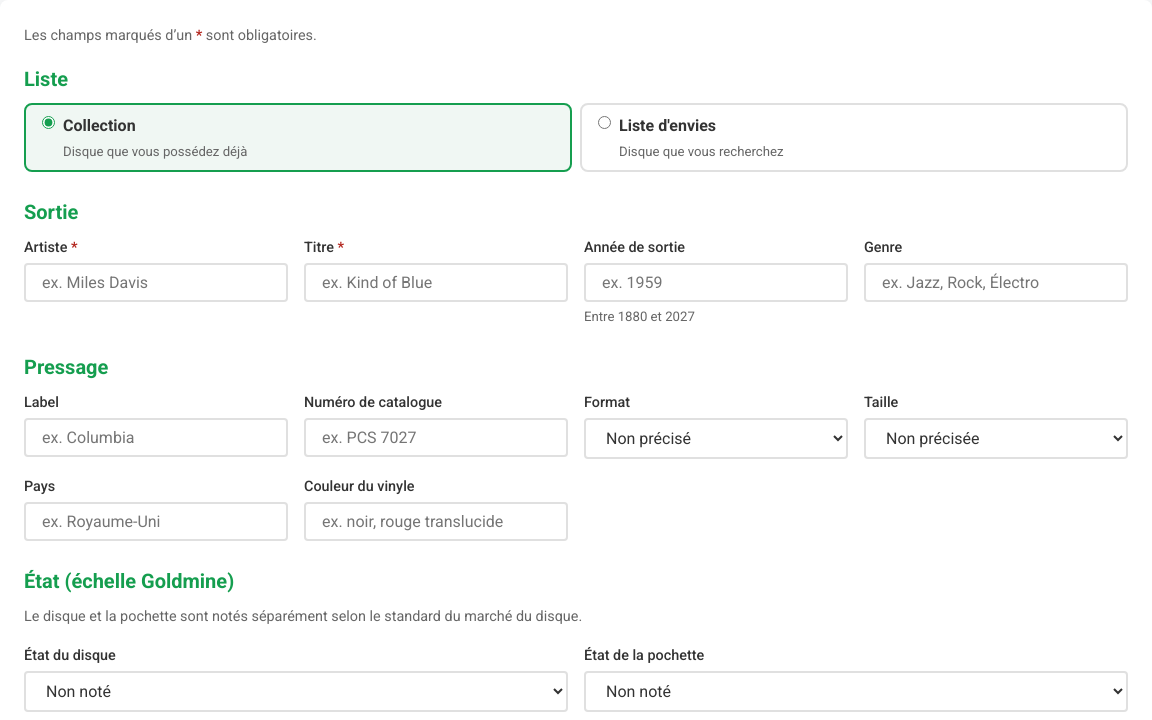
FormulaireVinyle › valide l’année côté client avant l’envoi à l’API
Type "Miles Davis" into the field labelled "Artiste *".
click(156, 282); type("Miles Davis")  # box [24,263,288,302]
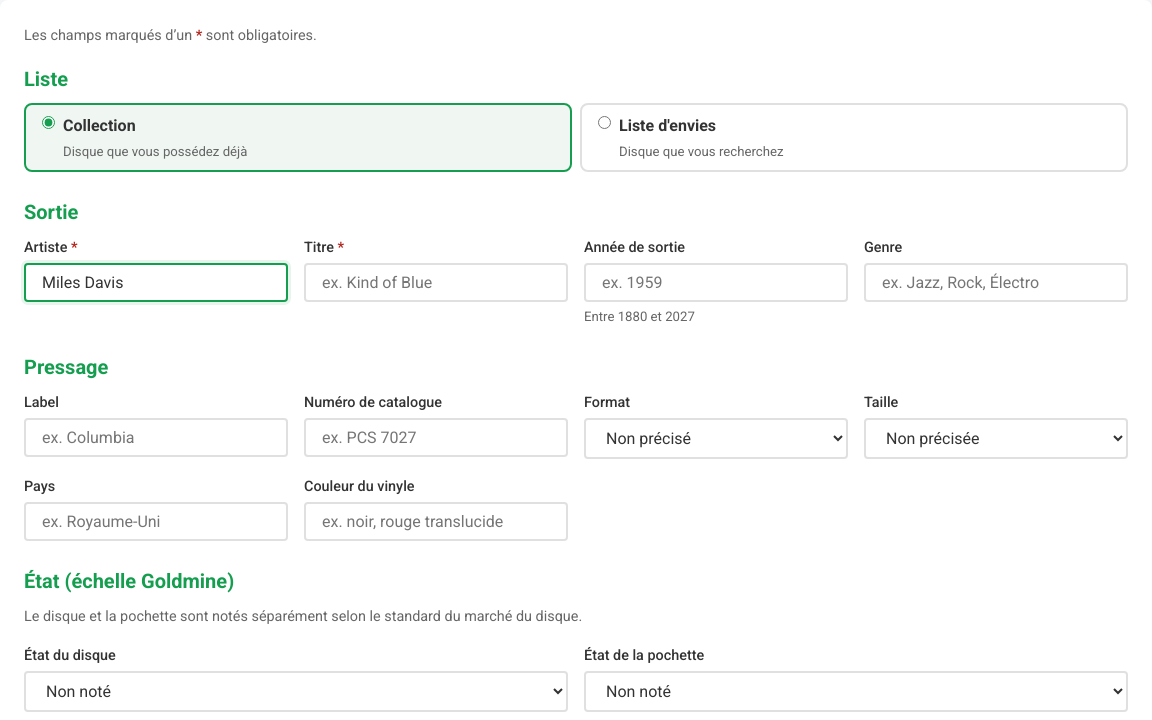
Type "Kind of Blue" into the field labelled "Titre *".
click(436, 282); type("Kind of Blue")  # box [304,263,568,302]
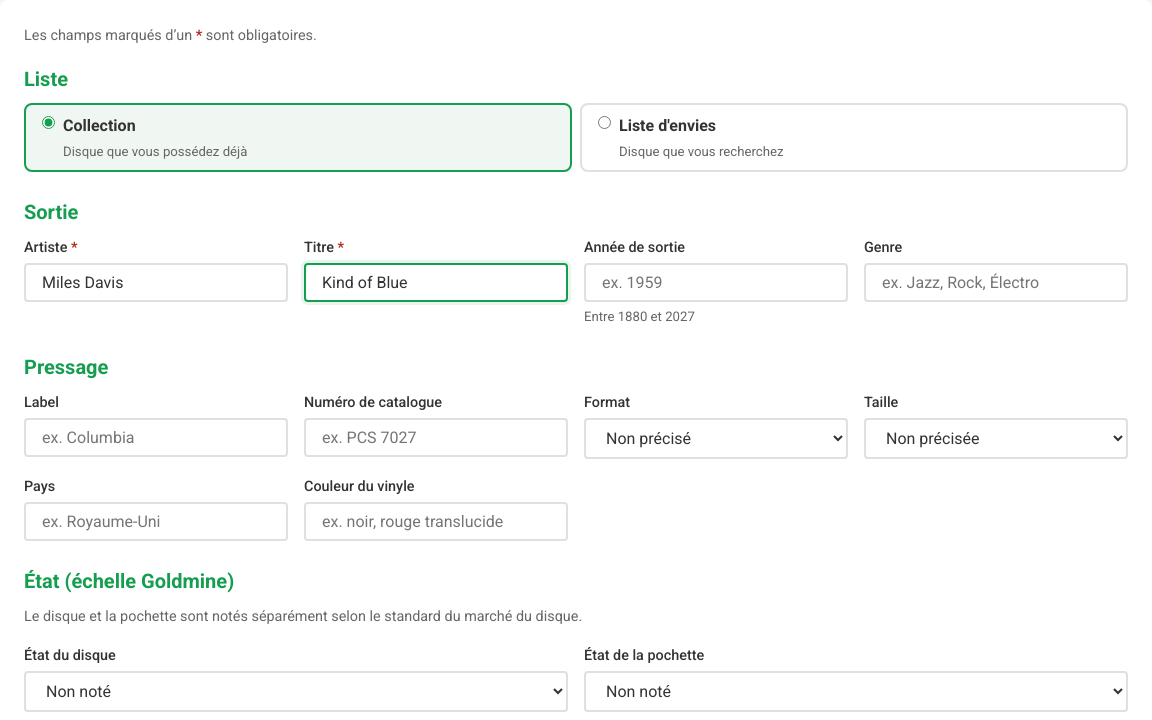
Type "1700" into the number field labelled "Année de sortie".
click(716, 282); type("1700")  # box [584,263,848,302]
(page scrolled)
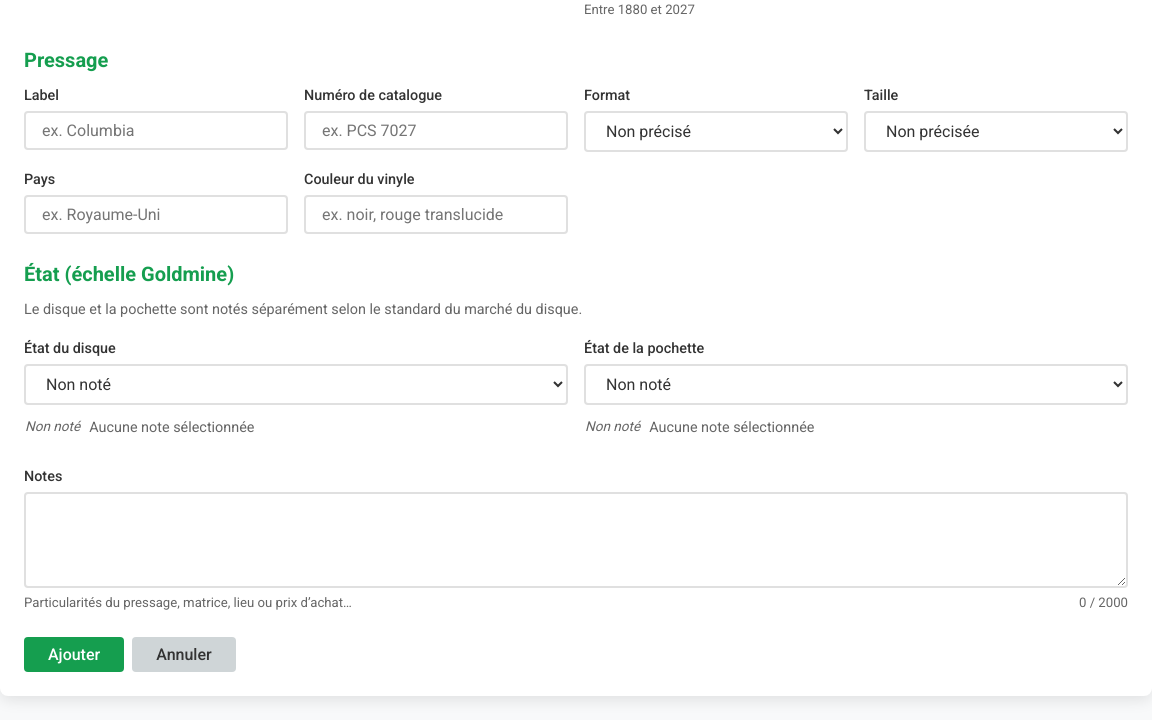
Click the button "Ajouter".
click(74, 655)  # box [24,637,124,672]
(page scrolled)
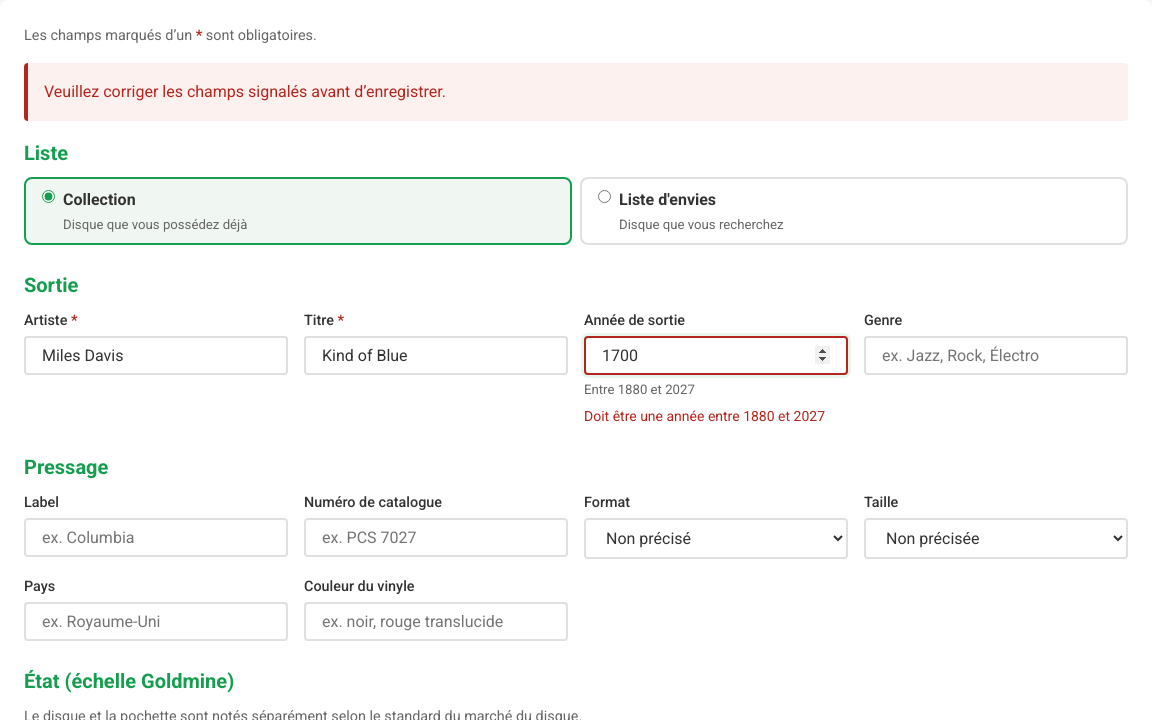
expect the text "Doit être une année entre 1880 et 2027" is shown: met, box [584,404,848,427]
